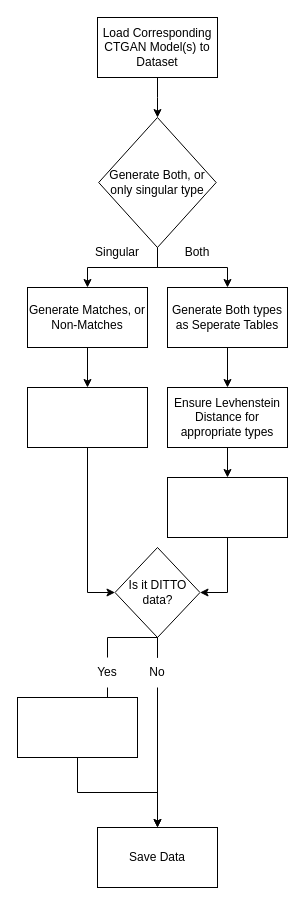
Some shapes in this 305 by 905 pixel diagram are drawn without their labels. Here are the shapes that lost their labels. From the top down, the box of each, then its label:
(26, 386, 148, 448): Ensure Levhenstein Distances
(166, 476, 288, 538): Concat Tables Together
(16, 696, 138, 758): Reformat Data to DITTO Textual Format
